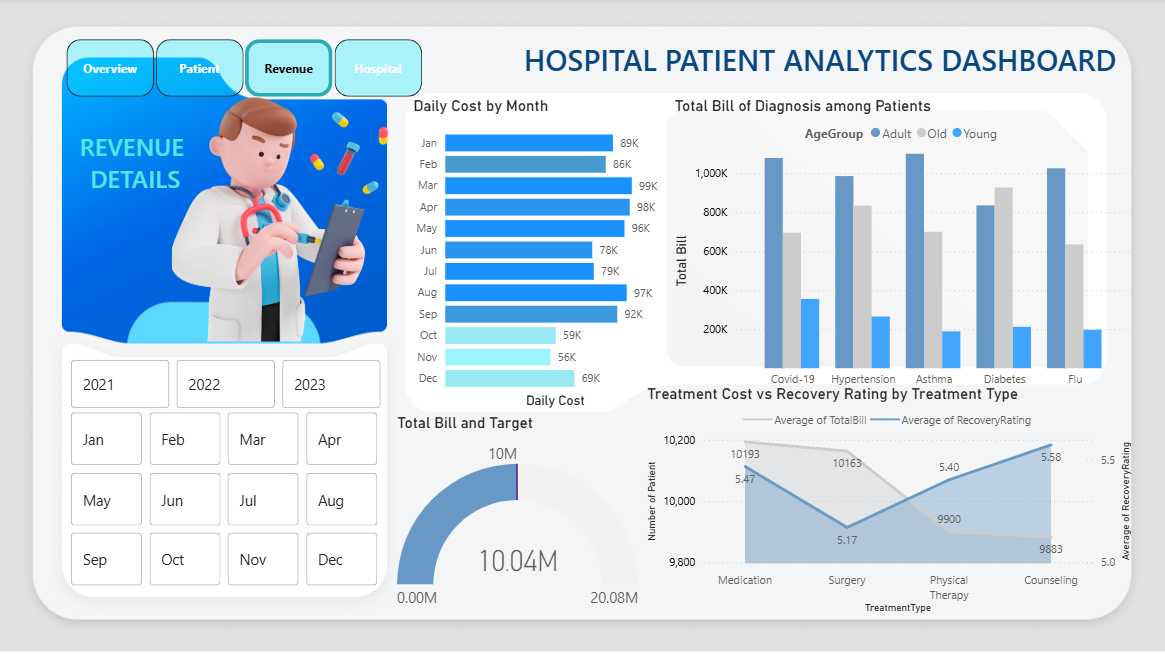

The page's visual inventory and layout, read from the dashboard file:
{"tool":"powerbi","page":{"name":"Revenue","canvas":[1280,720],"ordinal":2},"visuals":[{"type":"cardVisual","fields":{"Data":["Avg(hospital1_clean.TotalBill)"]},"box":[17.8,93.3,432.2,299.1],"z":0},{"type":"areaChart","title":"Treatment Cost vs Recovery Rating by Treatment Type","fields":{"Y2":["Avg(hospital2_clean.RecoveryRating)"],"Y":["Avg(hospital1_clean.TotalBill)"],"Category":["hospital2_clean.TreatmentType"]},"box":[706.7,424,542,256.6],"z":1000},{"type":"advancedSlicerVisual","fields":{"Values":["hospital1_clean.Month"]},"box":[74.1,450.1,347.2,200.3],"z":2000},{"type":"advancedSlicerVisual","fields":{"Values":["hospital1_clean.Year"]},"box":[74.1,392.5,352.7,63.1],"z":3000},{"type":"lineClusteredColumnComboChart","title":"Total Bill of Diagnosis among Patients","fields":{"Series":["hospital1_clean.AgeGroup"],"Y":["Sum(hospital1_clean.TotalBill)"],"Category":["hospital1_clean.Diagnosis"]},"box":[736.9,108.4,511.8,328],"z":4000},{"type":"clusteredBarChart","title":"Daily Cost by Month","fields":{"Category":["hospital1_clean.Month"],"Y":["Sum(hospital2_clean.DailyCost)"]},"box":[450.1,108.4,286.8,347.2],"z":5000},{"type":"gauge","title":"Total Bill and Target","fields":{"Y":["Sum(hospital1_clean.TotalBill)"],"TargetValue":["hospital1_clean.Target"]},"box":[432.2,455.6,274.4,225],"z":5001},{"type":"textbox","box":[537.9,41.2,727.3,52.1],"z":5002},{"type":"textbox","box":[0,140,299.1,86.4],"z":5003},{"type":"pageNavigator","box":[74.1,45.3,392.5,63.1],"z":5004}]}

Visuals, with their boxes in screenshot pixels (x1, y1, x2, y2), scaled from the page's 1280x720 canvas onto the 1165x654 screenshot:
cardVisual - Avg(hospital1_clean.TotalBill): <bbox>16, 85, 410, 356</bbox>
"Treatment Cost vs Recovery Rating by Treatment Type" areaChart: <bbox>643, 385, 1137, 618</bbox>
advancedSlicerVisual - hospital1_clean.Month: <bbox>67, 409, 383, 591</bbox>
advancedSlicerVisual - hospital1_clean.Year: <bbox>67, 357, 388, 414</bbox>
"Total Bill of Diagnosis among Patients" lineClusteredColumnComboChart: <bbox>671, 98, 1137, 396</bbox>
"Daily Cost by Month" clusteredBarChart: <bbox>410, 98, 671, 414</bbox>
"Total Bill and Target" gauge: <bbox>393, 414, 643, 618</bbox>
textbox: <bbox>490, 37, 1152, 85</bbox>
textbox: <bbox>0, 127, 272, 206</bbox>
pageNavigator: <bbox>67, 41, 425, 98</bbox>
